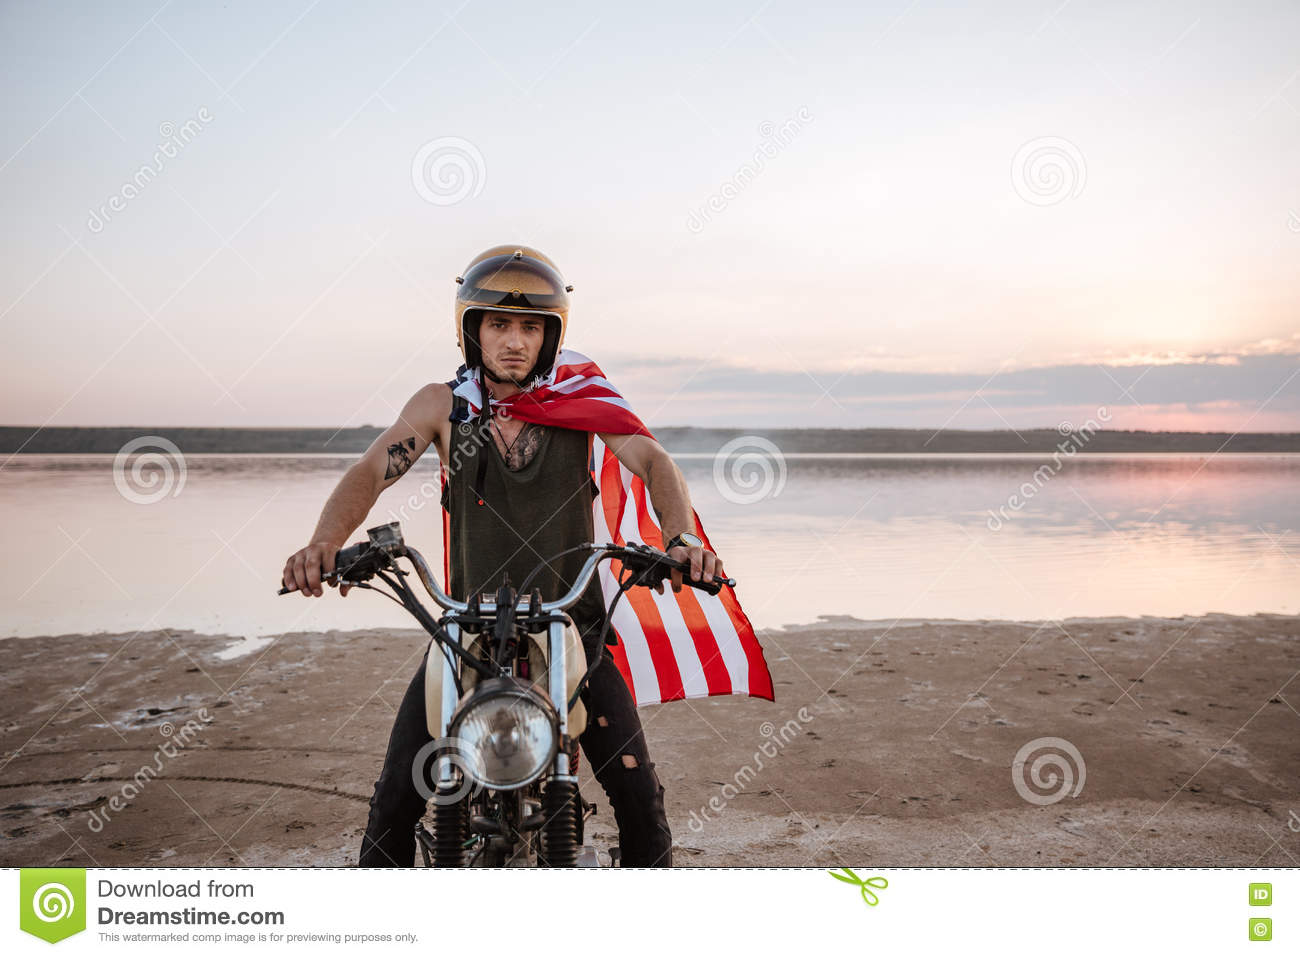helmet: (454, 245, 562, 370)
